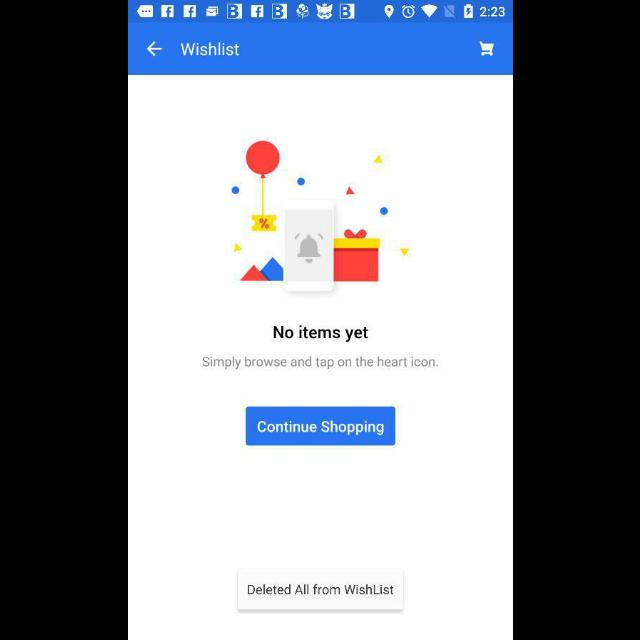icon: (146, 42, 162, 58), (479, 42, 493, 56)
image: (230, 142, 408, 292)
text: (202, 356, 438, 370), (272, 326, 368, 342), (180, 43, 238, 57)
textbutton: (237, 570, 403, 610), (245, 406, 395, 446)
toolbar: (128, 24, 512, 76)
uppertaskbar: (128, 1, 512, 23)
